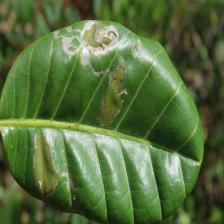leaf miner: (48, 18, 152, 134), (28, 128, 68, 201)
